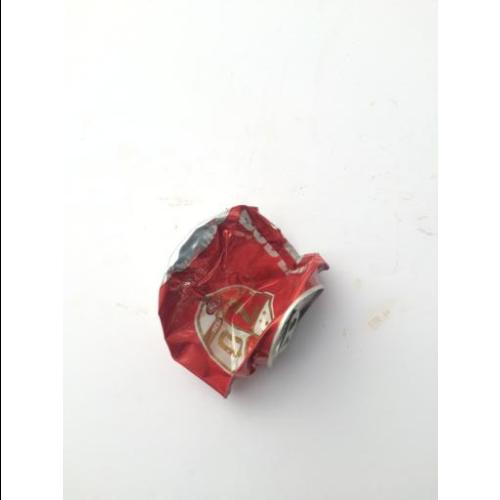metal: (161, 205, 326, 396)
